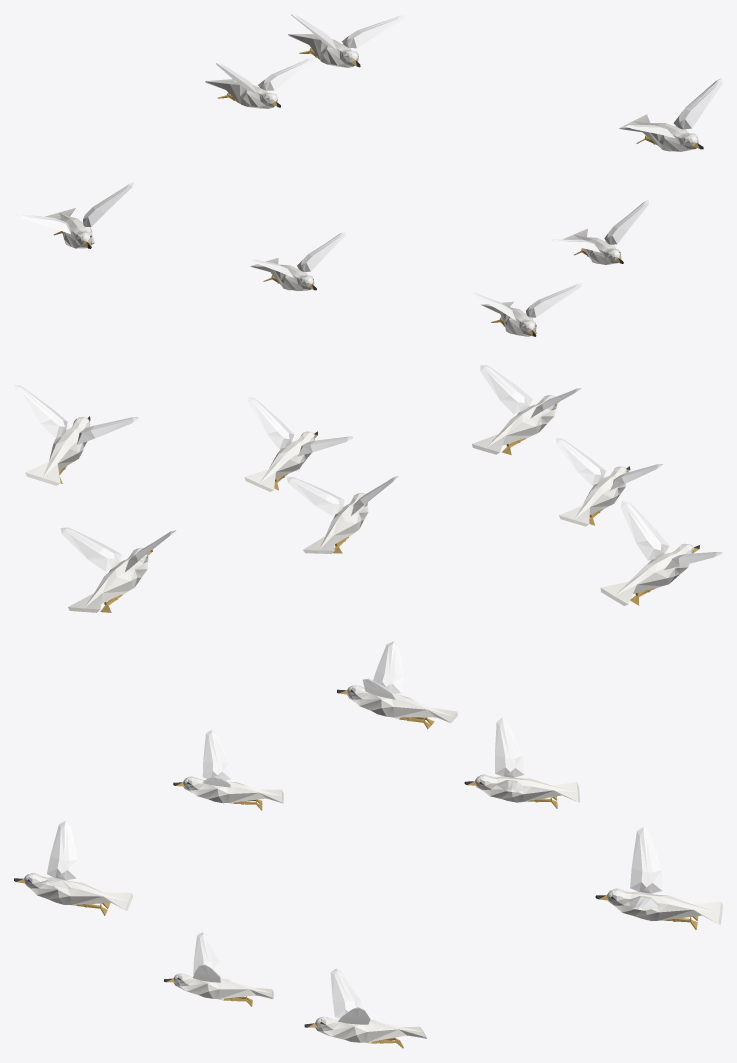
The model's file is bird_flock.glb.
3 renders of one model, top to bottom at view 1: azimuth 30°, elevation 25°; view 2: azimuth 150°, elevation 25°; view 3: azimuth 270°, elevation 25°, orthographic. The views are drawn at different scales.
Visible parts, largest first — view 1: bird_flock; view 2: bird_flock; view 3: bird_flock.
Part boxes in pixels (x1,y1,x2,y2): bird_flock: (14,14,722,336); bird_flock: (14,365,722,612); bird_flock: (14,641,722,1048).
Size of the model in its own units: 8.38 by 1.86 by 7.25.
